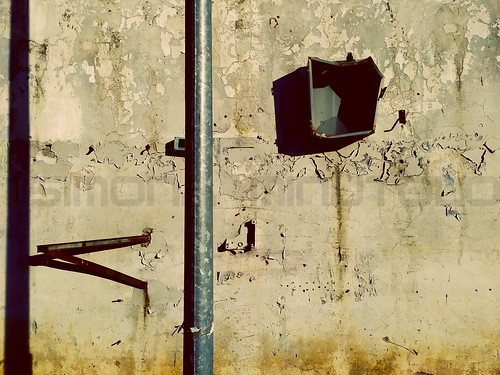wall: (7, 1, 496, 371)
